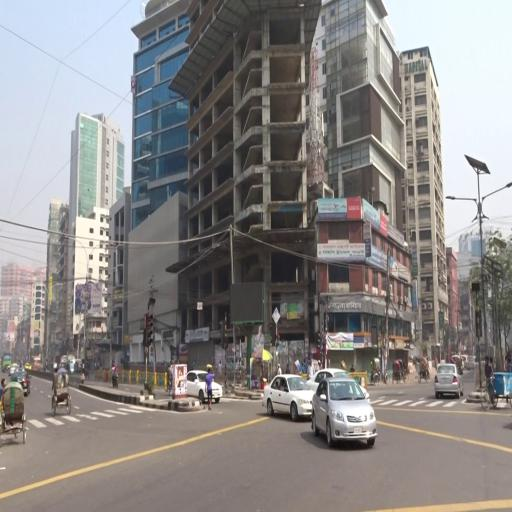bus: (2, 353, 13, 373)
car: (312, 376, 381, 448), (306, 367, 372, 410), (263, 373, 318, 423), (187, 369, 225, 406), (434, 363, 465, 402), (11, 371, 33, 397)
motorbike: (112, 363, 121, 389)
rickshaw: (478, 356, 512, 416), (3, 379, 29, 444), (52, 367, 73, 421), (370, 356, 391, 387), (419, 357, 432, 385), (392, 361, 403, 388), (85, 360, 90, 381)
